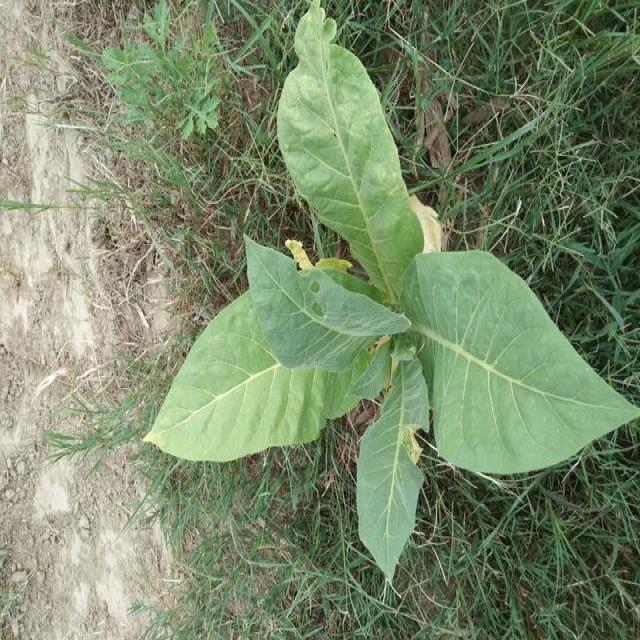crop: (146, 9, 640, 603)
